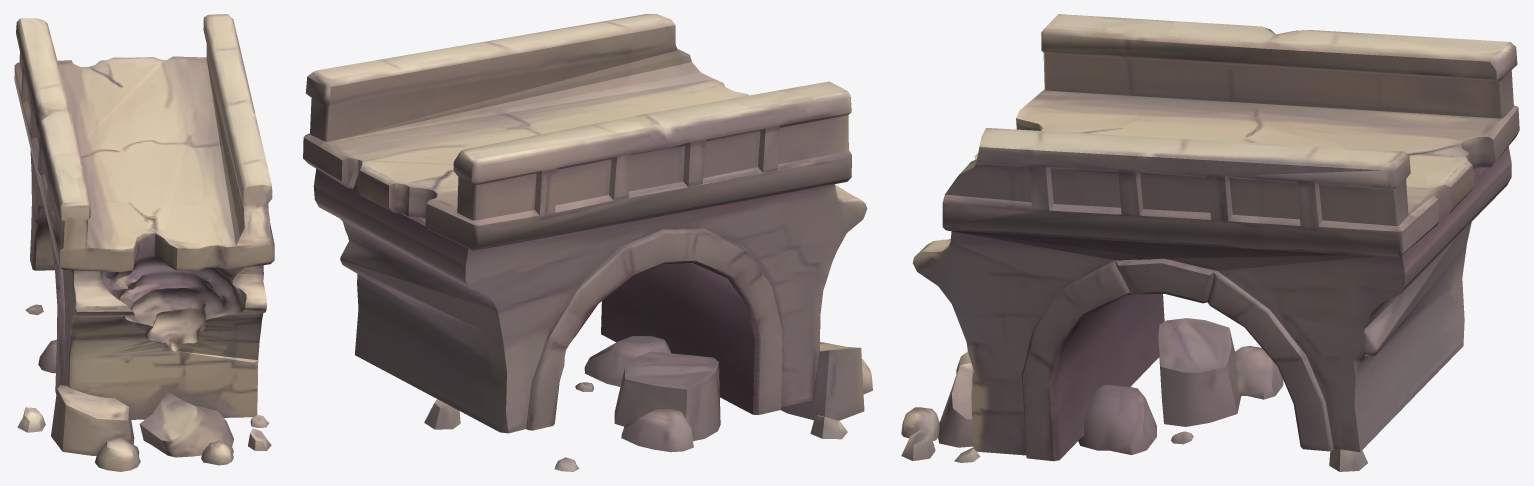
Rendered from SM_RuinBridge_01.fbx.
3 renders of one model, left to right at view 1: azimuth 30°, elevation 25°; view 2: azimuth 150°, elevation 25°; view 3: azimuth 270°, elevation 25°, orthographic. The views are drawn at different scales.
Parts seen in each view (by area): view 1: SM_RuinBridge_01; view 2: SM_RuinBridge_01; view 3: SM_RuinBridge_01.
Part boxes in pixels (x1,y1,x2,y2): SM_RuinBridge_01: (14, 14, 274, 471); SM_RuinBridge_01: (303, 14, 872, 471); SM_RuinBridge_01: (901, 14, 1519, 471).
Size of the model in its own units: 77.79 by 68.87 by 96.16.
1 material, 1 textured.
